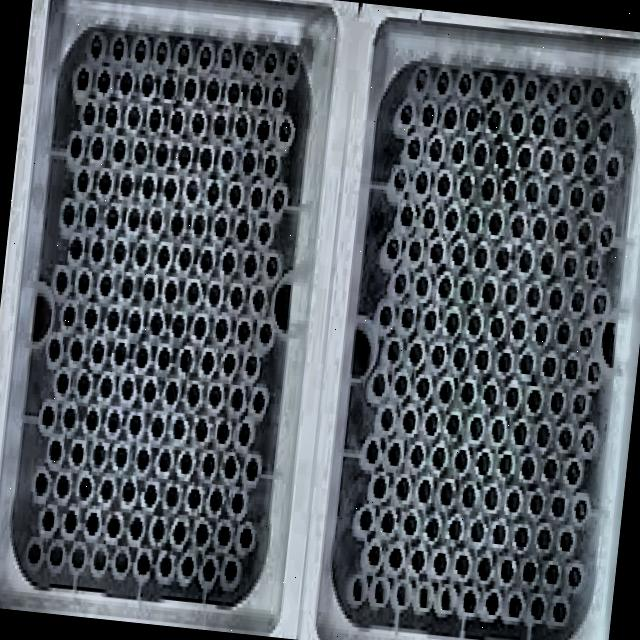vial: (221, 556, 240, 588), (199, 555, 218, 585), (236, 522, 255, 552), (202, 178, 222, 206), (482, 483, 500, 513), (275, 118, 295, 145), (184, 378, 202, 408), (384, 440, 403, 468), (368, 370, 387, 398), (267, 82, 286, 110), (82, 407, 101, 435), (384, 337, 402, 366), (460, 483, 478, 512), (370, 474, 388, 503), (182, 175, 200, 204), (508, 212, 527, 239), (152, 38, 171, 65), (176, 36, 193, 66), (516, 247, 534, 275), (590, 291, 608, 319), (362, 438, 380, 466), (240, 44, 258, 72), (212, 110, 230, 138), (104, 306, 122, 334), (256, 320, 274, 348), (169, 518, 187, 546), (86, 32, 105, 58), (155, 551, 174, 577), (38, 401, 55, 430), (574, 116, 592, 143), (397, 203, 415, 230), (404, 238, 422, 265), (436, 379, 454, 406), (224, 78, 242, 105), (232, 114, 250, 141), (168, 108, 186, 135), (116, 173, 134, 200), (67, 236, 85, 263), (146, 311, 164, 338), (234, 318, 252, 345), (241, 354, 259, 381), (220, 350, 238, 377), (228, 385, 246, 412), (206, 384, 224, 411), (192, 520, 210, 547), (134, 551, 152, 578), (494, 142, 510, 172), (419, 100, 436, 128), (391, 165, 408, 193), (512, 524, 529, 552), (454, 552, 471, 580), (73, 64, 90, 92), (222, 452, 239, 480), (155, 448, 172, 476), (263, 253, 282, 278), (589, 188, 607, 214), (538, 250, 556, 276), (472, 244, 490, 270), (475, 556, 493, 582), (356, 510, 374, 536), (153, 140, 171, 166), (270, 188, 288, 214), (72, 168, 90, 194), (185, 278, 203, 304), (162, 279, 180, 305), (178, 554, 196, 580), (198, 452, 216, 478), (103, 514, 121, 540), (84, 512, 102, 538), (462, 588, 478, 617), (438, 479, 454, 508), (216, 417, 232, 446), (47, 435, 63, 464), (411, 66, 428, 93), (531, 214, 548, 241), (103, 206, 120, 233), (126, 308, 143, 335), (164, 483, 181, 510), (127, 516, 144, 543), (571, 496, 589, 521), (504, 490, 522, 515), (228, 491, 246, 516), (398, 100, 414, 128), (517, 144, 533, 172), (546, 181, 562, 209), (586, 358, 602, 386), (90, 134, 106, 162), (148, 206, 164, 234), (82, 202, 98, 230), (250, 288, 266, 316), (54, 268, 70, 296), (163, 378, 179, 406), (32, 472, 48, 500), (449, 138, 466, 164), (598, 223, 615, 249), (487, 210, 504, 236), (443, 206, 460, 232), (408, 442, 425, 468), (394, 476, 411, 502), (197, 144, 214, 170), (66, 135, 83, 161), (75, 371, 92, 397), (244, 456, 261, 482), (215, 522, 232, 548), (207, 486, 224, 512), (185, 486, 202, 512), (141, 482, 158, 508), (98, 478, 115, 504), (76, 476, 93, 502), (464, 105, 480, 132), (524, 180, 540, 207), (562, 358, 580, 382), (569, 290, 587, 314), (430, 342, 446, 369), (556, 528, 574, 552), (263, 49, 279, 76), (196, 41, 212, 68), (110, 34, 126, 61), (189, 110, 207, 134), (176, 244, 192, 271), (206, 281, 222, 308), (82, 305, 98, 332), (134, 344, 150, 371), (127, 409, 143, 436), (178, 452, 194, 479), (465, 209, 482, 234), (421, 205, 438, 230), (460, 378, 477, 403), (378, 407, 395, 432), (228, 283, 245, 308), (451, 240, 466, 268), (548, 286, 563, 314), (46, 336, 61, 364), (486, 108, 502, 134), (539, 148, 555, 174), (472, 141, 488, 167), (568, 184, 584, 210), (576, 218, 592, 244), (554, 216, 570, 242), (541, 354, 557, 380), (422, 307, 438, 333), (408, 340, 424, 366), (399, 306, 415, 332), (571, 392, 587, 418), (470, 516, 486, 542), (433, 550, 449, 576), (416, 478, 432, 504), (284, 52, 300, 78), (219, 44, 235, 70), (132, 36, 148, 62), (140, 70, 156, 96), (146, 106, 162, 132), (81, 99, 97, 125), (264, 151, 280, 177), (242, 252, 258, 278), (234, 218, 250, 244), (219, 250, 235, 276), (198, 246, 214, 272), (190, 212, 206, 238), (133, 241, 149, 267), (169, 312, 185, 338), (200, 349, 216, 375), (156, 344, 172, 370), (90, 340, 106, 366), (170, 414, 186, 440), (150, 414, 166, 440), (61, 406, 77, 432), (149, 518, 165, 544), (254, 220, 272, 243), (589, 86, 606, 110), (421, 412, 438, 436), (549, 496, 566, 520), (491, 524, 508, 548), (203, 77, 220, 101), (247, 185, 264, 209), (212, 315, 229, 339), (414, 168, 429, 195), (60, 200, 75, 227), (522, 77, 538, 102), (509, 111, 525, 136), (443, 104, 459, 129), (428, 135, 444, 160), (578, 326, 594, 351), (554, 324, 570, 349), (524, 283, 540, 308), (458, 278, 474, 303), (391, 271, 407, 296), (536, 421, 552, 446), (452, 447, 468, 472), (552, 598, 568, 623), (248, 80, 264, 105), (161, 175, 177, 200), (141, 277, 157, 302), (192, 314, 208, 339), (252, 388, 268, 413), (98, 373, 114, 398), (54, 372, 70, 397), (236, 421, 252, 446), (105, 409, 121, 434), (112, 444, 128, 469), (453, 344, 467, 372), (444, 413, 461, 436), (501, 76, 516, 102), (583, 152, 598, 178), (407, 134, 422, 160), (534, 322, 549, 348), (378, 304, 393, 330), (549, 390, 564, 416), (491, 416, 506, 442), (530, 594, 545, 620), (536, 528, 551, 554), (227, 182, 242, 208), (155, 242, 170, 268), (119, 275, 134, 301), (610, 87, 626, 111), (552, 116, 568, 140), (530, 112, 546, 136), (502, 178, 518, 202), (584, 256, 600, 280), (494, 246, 510, 270), (519, 352, 535, 376), (510, 318, 526, 342), (488, 315, 504, 339), (482, 280, 498, 304), (436, 274, 452, 298), (414, 377, 430, 401), (392, 374, 408, 398), (401, 408, 417, 432), (486, 590, 502, 614), (498, 561, 514, 585), (438, 590, 454, 614), (400, 514, 416, 538), (254, 118, 270, 142), (240, 151, 256, 175), (219, 148, 235, 172), (176, 144, 192, 168), (132, 142, 148, 166), (110, 138, 126, 162), (139, 174, 155, 198), (89, 237, 105, 261), (112, 342, 128, 366), (134, 448, 150, 472), (54, 475, 70, 499), (444, 310, 458, 337), (69, 337, 83, 364), (429, 241, 444, 266), (562, 254, 578, 277), (557, 427, 573, 450), (182, 77, 198, 100), (126, 104, 142, 127), (96, 274, 112, 297), (40, 509, 56, 532), (562, 148, 576, 174), (386, 236, 400, 262), (504, 282, 518, 308), (520, 452, 534, 478), (448, 516, 462, 542), (96, 68, 110, 94), (169, 213, 183, 239), (62, 302, 76, 328), (120, 376, 134, 402), (194, 418, 208, 444), (481, 176, 496, 200), (476, 452, 491, 476), (63, 510, 78, 534), (566, 82, 582, 104), (545, 82, 561, 104), (597, 120, 613, 142), (436, 172, 452, 194), (542, 458, 558, 480), (566, 566, 582, 588), (528, 496, 544, 518), (522, 561, 538, 583), (76, 272, 92, 294), (468, 313, 482, 338), (410, 549, 424, 574), (112, 239, 126, 264), (98, 171, 112, 196), (178, 347, 192, 372), (122, 479, 136, 504), (459, 174, 474, 197), (414, 274, 429, 297), (213, 216, 228, 239), (125, 207, 140, 230), (480, 74, 494, 98), (476, 348, 490, 372), (580, 428, 594, 452), (514, 420, 528, 444), (380, 509, 394, 533), (92, 442, 106, 466), (436, 70, 451, 92), (482, 383, 497, 405), (499, 452, 514, 474), (469, 418, 484, 440), (458, 73, 472, 96), (498, 351, 512, 374), (566, 461, 580, 484), (104, 105, 118, 128), (70, 439, 84, 462), (430, 446, 446, 466), (543, 564, 559, 584), (606, 156, 620, 178), (528, 388, 542, 410), (509, 593, 523, 615), (142, 380, 156, 402), (163, 75, 176, 98), (426, 518, 438, 542), (366, 542, 379, 564), (120, 72, 132, 95), (389, 548, 402, 568), (508, 387, 520, 406)
